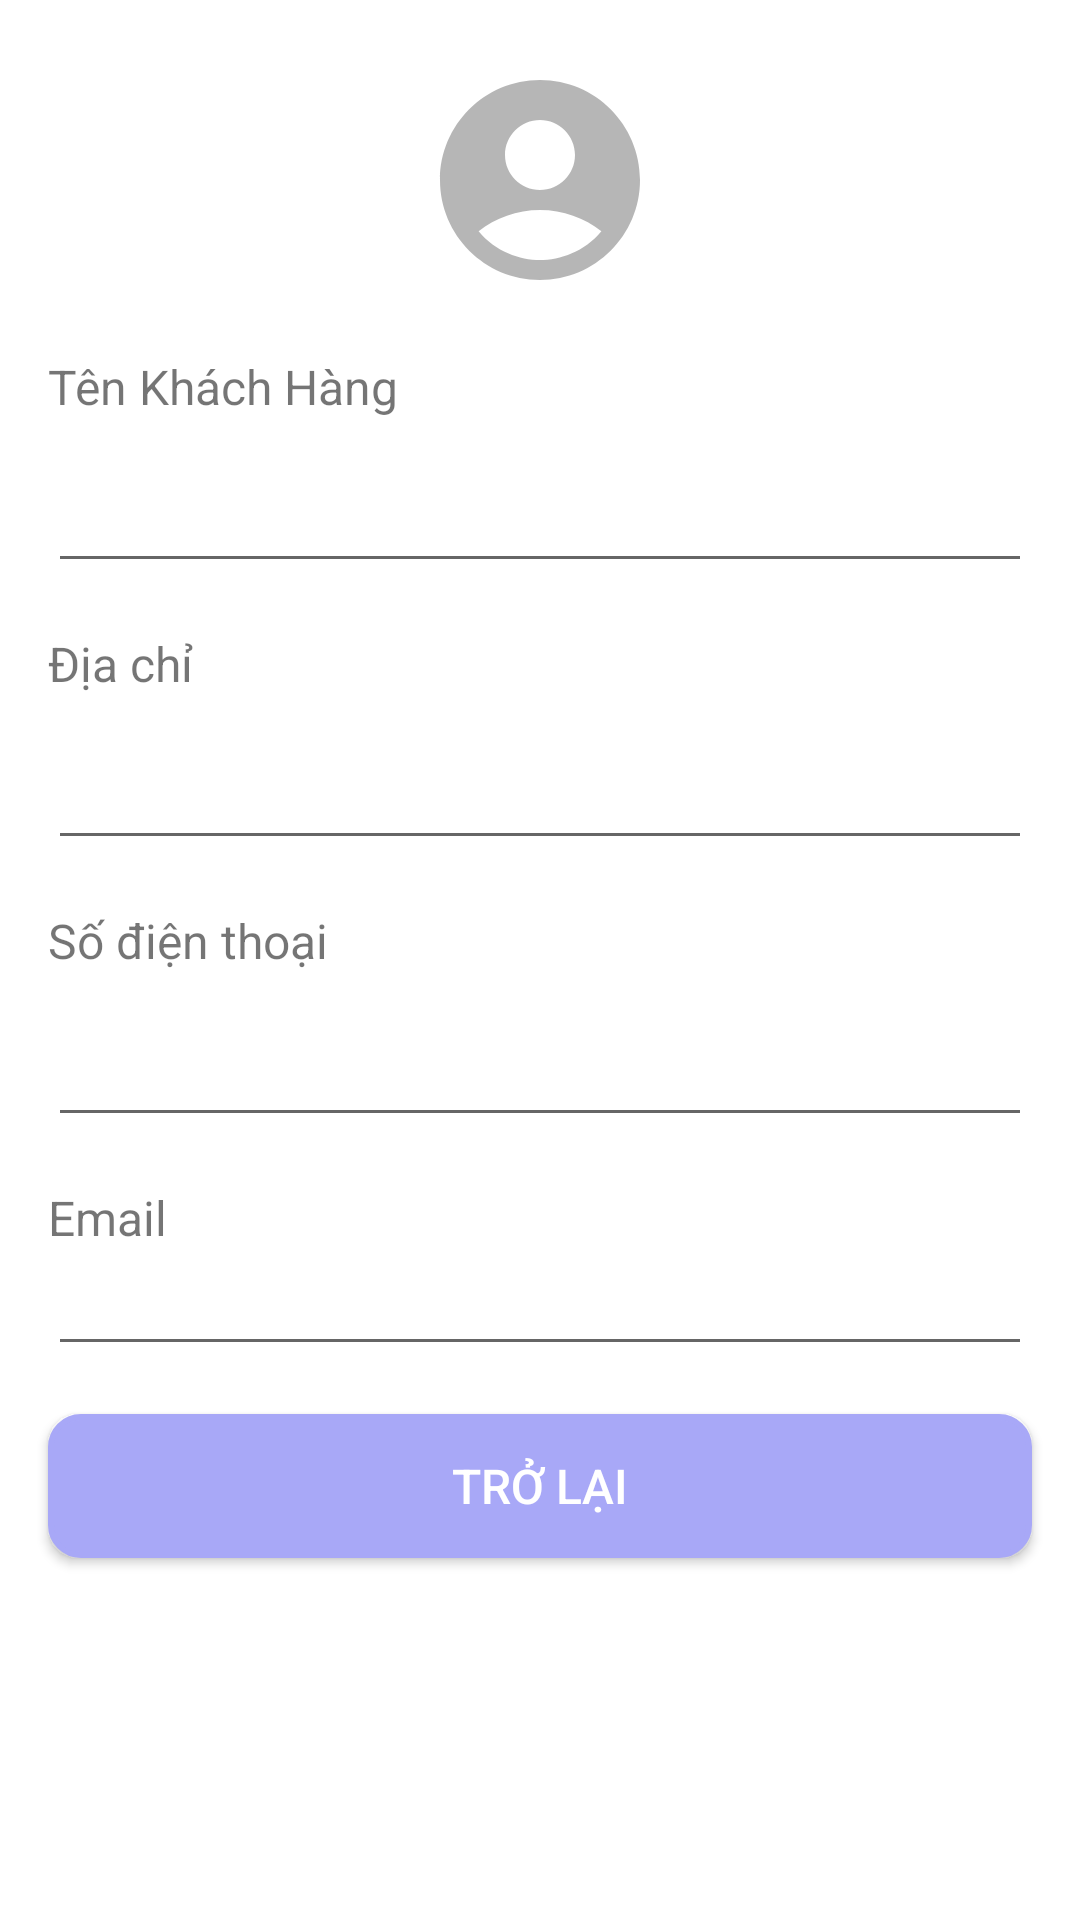

Locate icon controls on the screen. Image size 1080px x 1920px, boxes as rect(x1, y1, x2, y2).
account circle: rect(440, 80, 640, 280)
